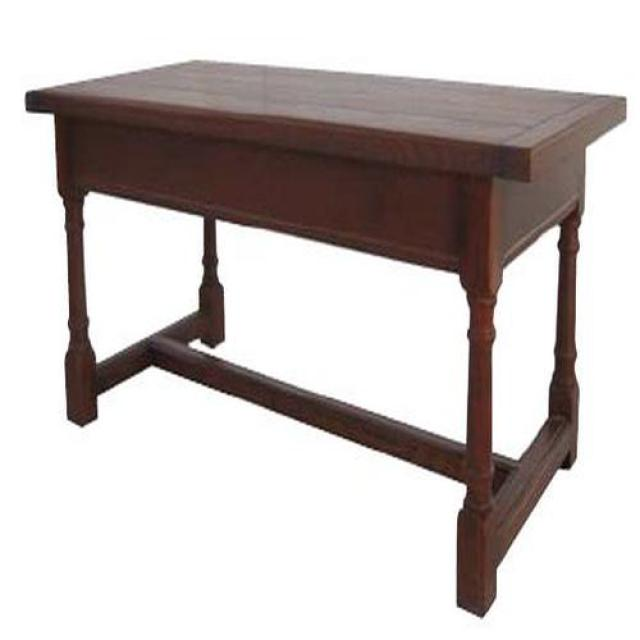table: (24, 60, 628, 618)
